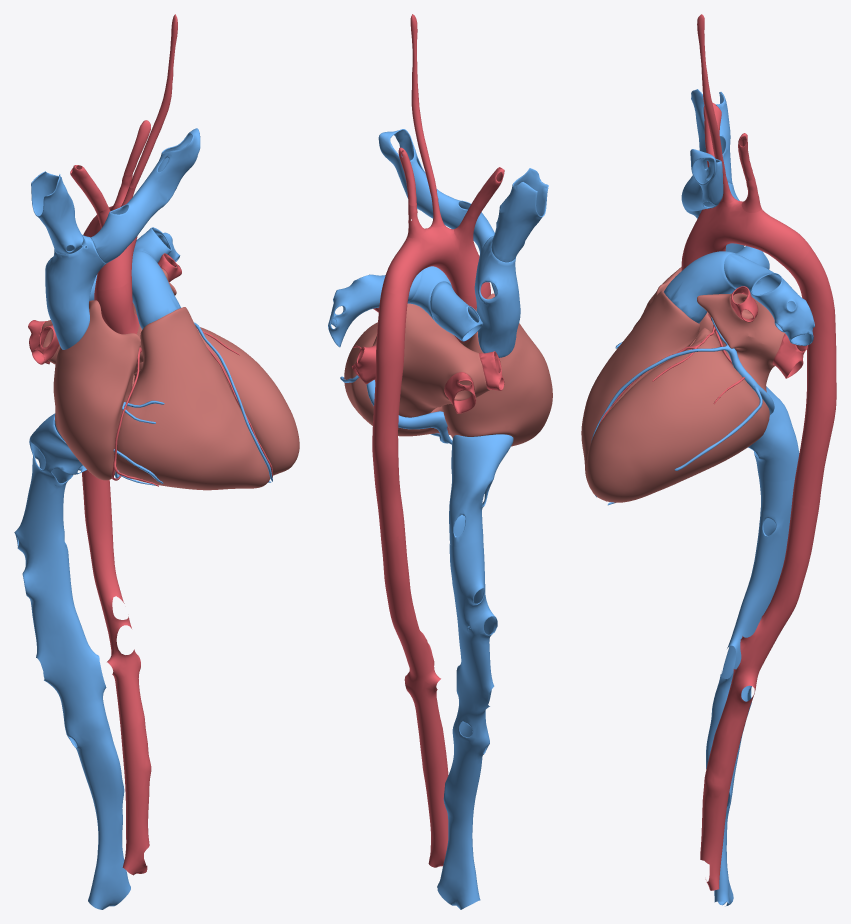
File: heart.glb
The picture shows the model from 3 angles, left to right: view 1: azimuth 30°, elevation 25°; view 2: azimuth 150°, elevation 25°; view 3: azimuth 270°, elevation 25°; orthographic projection. The views are drawn at different scales.
Visible parts, largest first — view 1: VH_M_pulmonary_artery_L, VH_M_mitral_valve, VH_M_aortic_arch; view 2: VH_M_pulmonary_artery_L, VH_M_aortic_arch, VH_M_mitral_valve, VH_M_coronary_sinus; view 3: VH_M_mitral_valve, VH_M_aortic_arch, VH_M_pulmonary_artery_L, VH_M_coronary_sinus.
Part boxes in pixels (x1,y1,x2,y2): VH_M_pulmonary_artery_L: (14, 128, 272, 909); VH_M_mitral_valve: (41, 268, 299, 490); VH_M_aortic_arch: (28, 14, 272, 875); VH_M_pulmonary_artery_L: (328, 129, 548, 909); VH_M_aortic_arch: (351, 14, 504, 867); VH_M_mitral_valve: (344, 293, 552, 446); VH_M_coronary_sinus: (340, 375, 452, 444); VH_M_mitral_valve: (581, 267, 784, 502); VH_M_aortic_arch: (598, 14, 836, 890); VH_M_pulmonary_artery_L: (591, 89, 814, 906); VH_M_coronary_sinus: (674, 341, 774, 470).
Bounding box in the file's own units: 0.1319 × 0.5142 × 0.1288.
